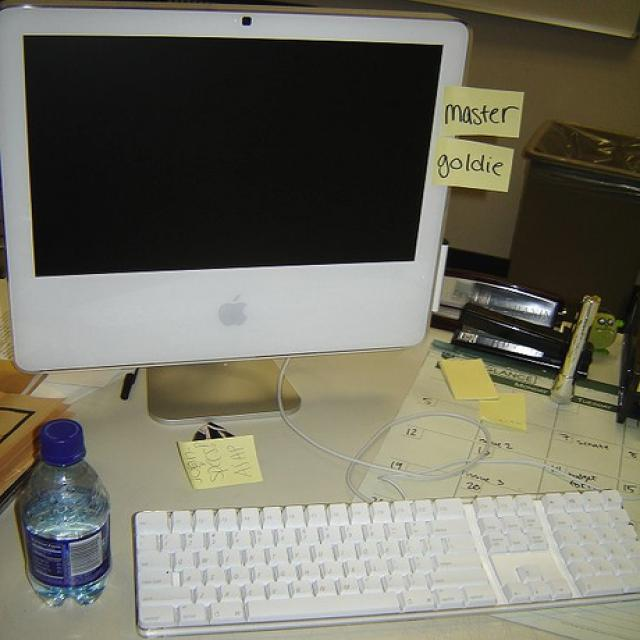bottle: (15, 413, 115, 608)
tvmonitor: (1, 6, 473, 427)
